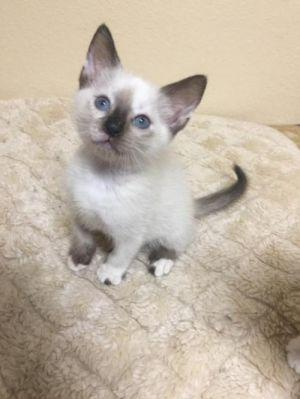siamese: (61, 20, 212, 180)
